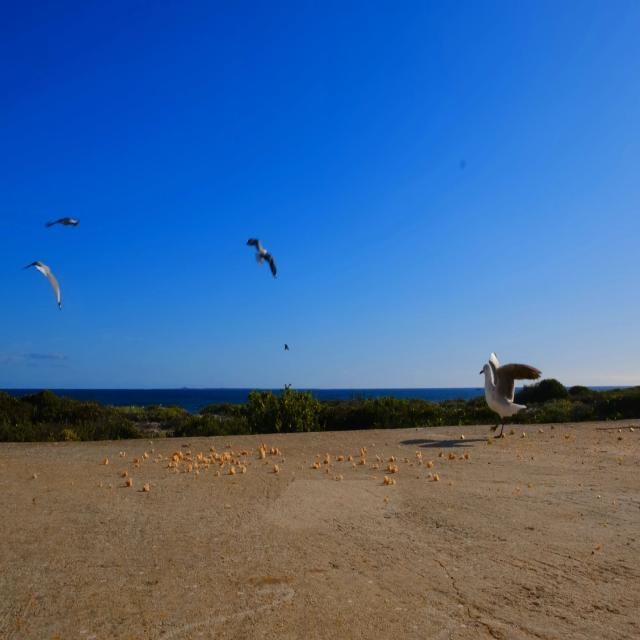bird: (475, 344, 546, 438), (17, 253, 66, 316), (244, 235, 281, 286), (36, 211, 82, 233), (278, 338, 295, 357)
